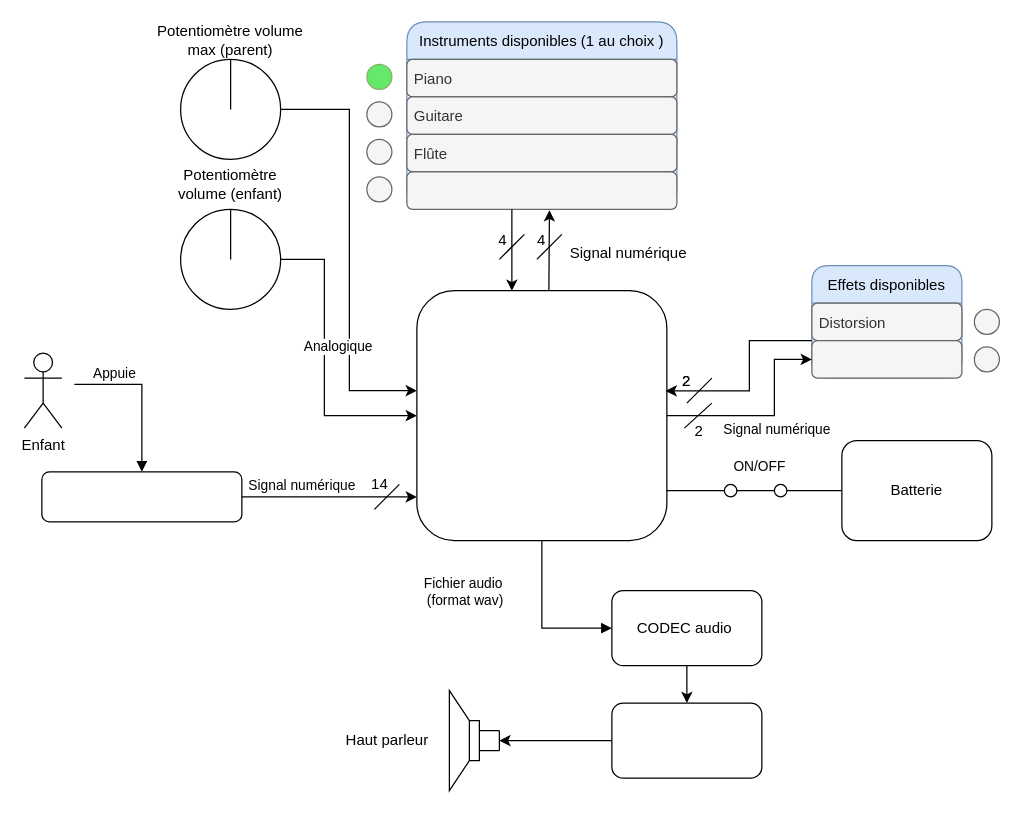
Some shapes in this 1021 by 813 pixel diagram are drawn without their labels. Each missing label, with the centre of its shape:
Amplificateur: point 686,740
Boutons du synthétiseur: point 141,496
LPC1769 (Effectue le traitement et envoie le son en sortie): point 541,415
Trompette: point 541,190
Écho: point 886,358
